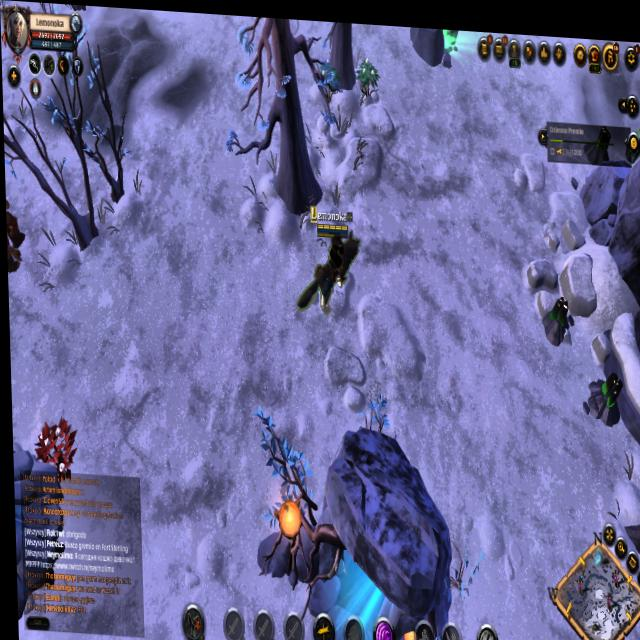fiber tier 3: (356, 49, 381, 95)
fiber tier 5: (31, 415, 76, 474)
ore tier 3: (582, 356, 621, 429), (540, 285, 574, 344), (584, 110, 612, 163)
